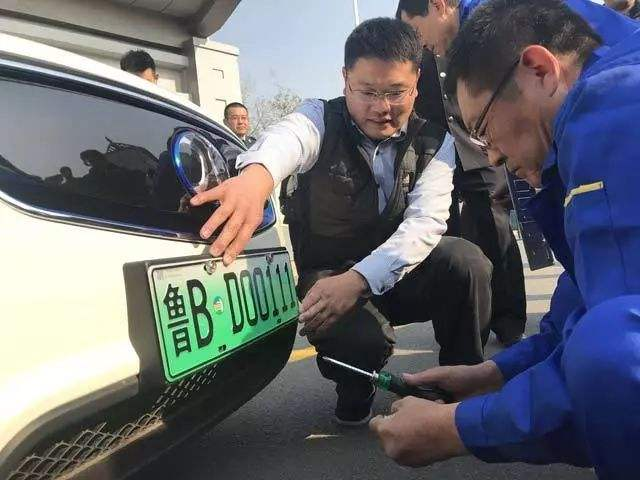plate: (137, 239, 312, 392)
